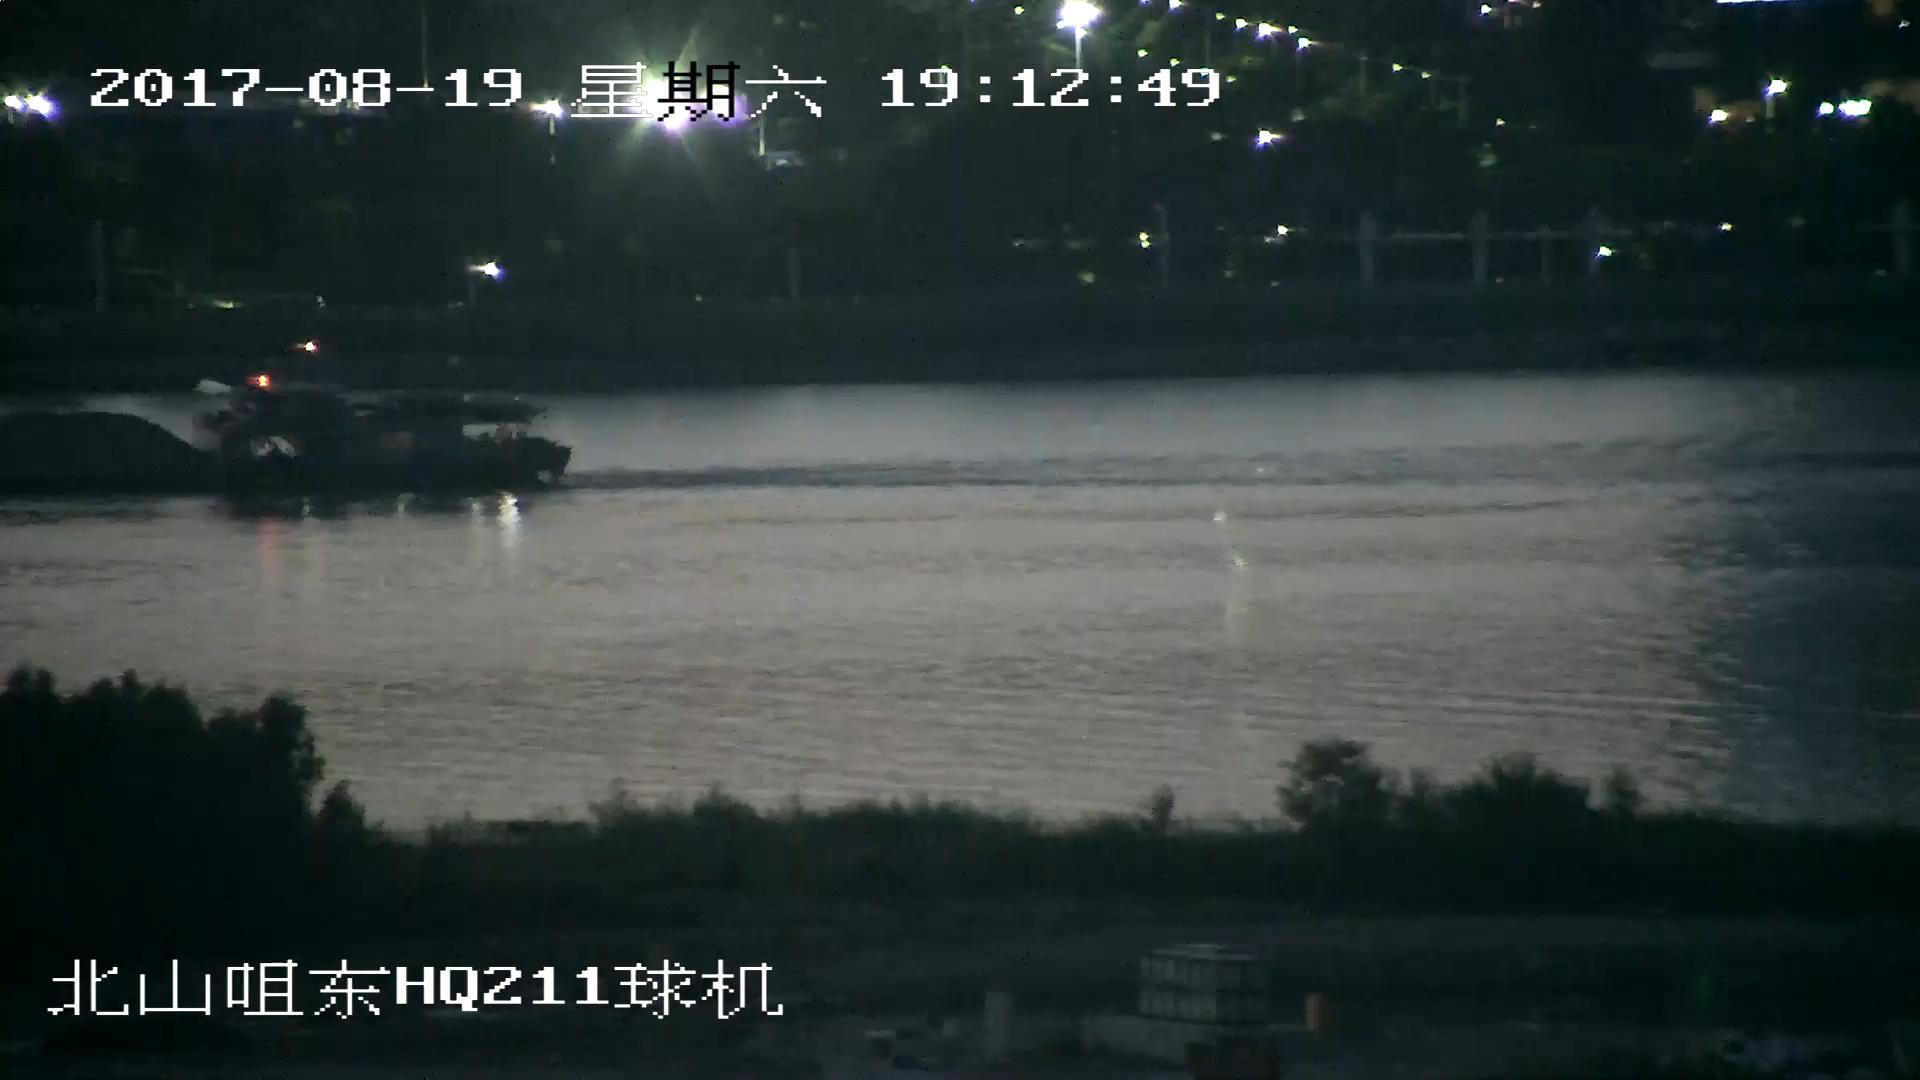Ship: (3, 357, 582, 509)
